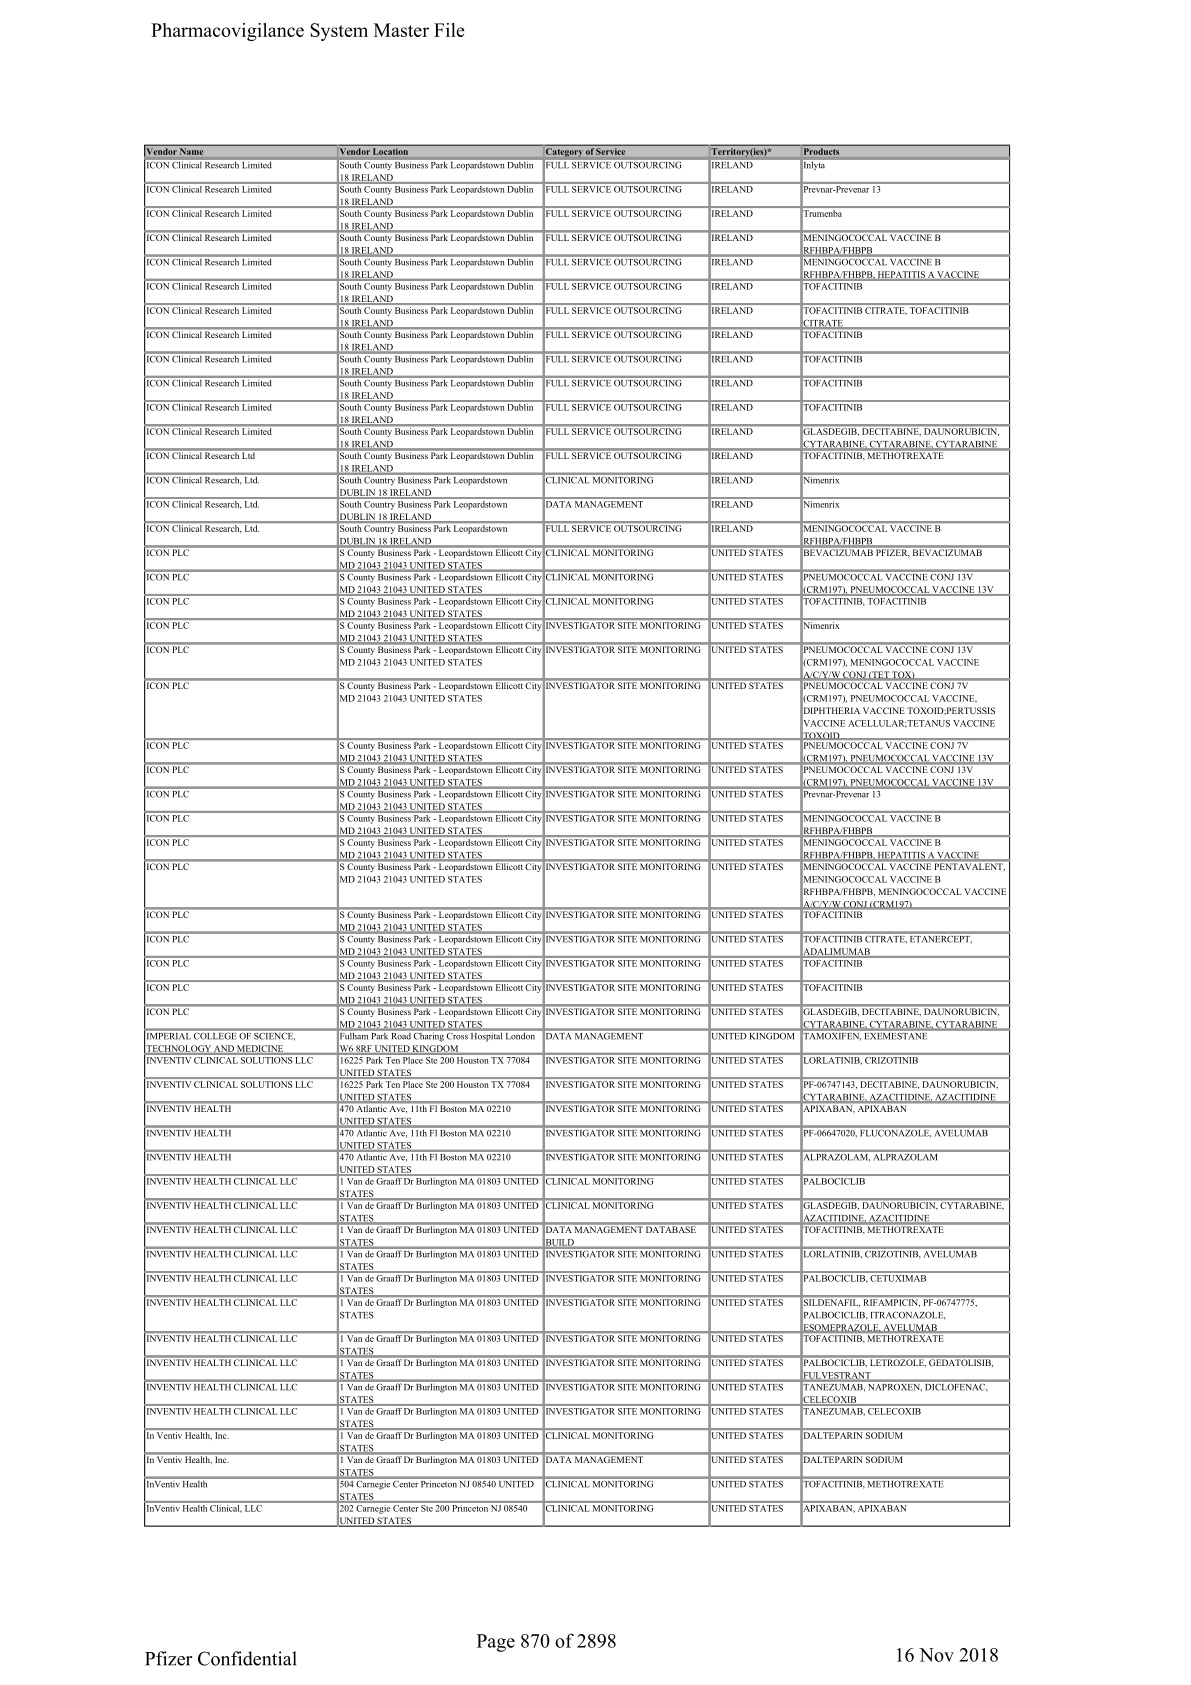full_lined: (142, 144, 1011, 1526)
